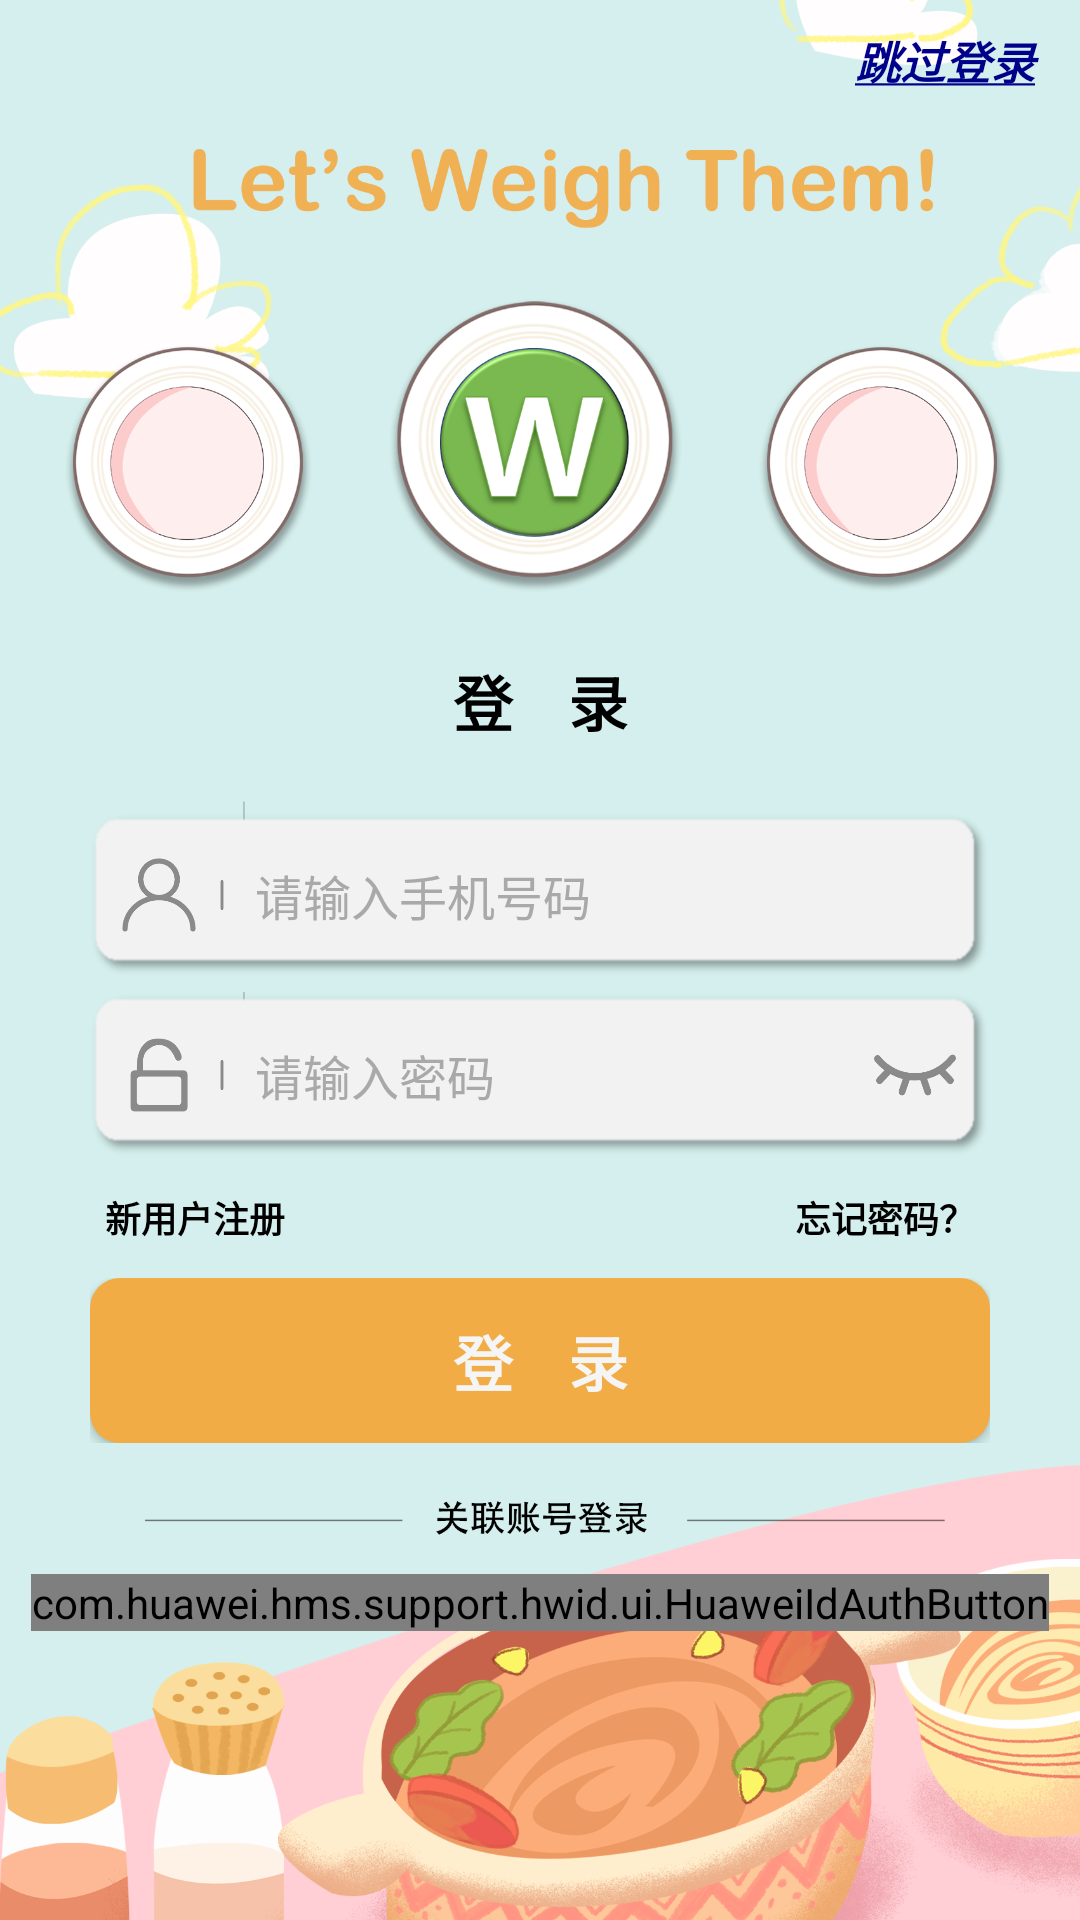

Where to tap for icons on this 1080px×1920px app screen, as [x,y]:
no eye: [915,1075]
passwd: [159,1075]
user: [159,895]
